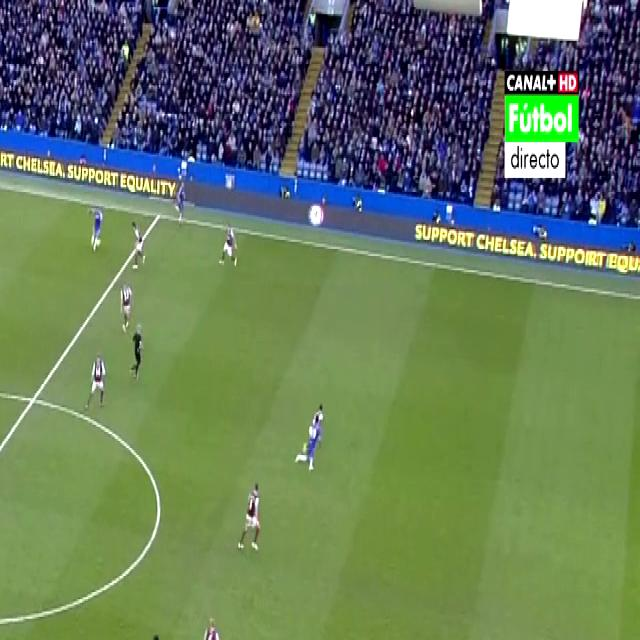referee: (132, 320, 150, 385)
soccer-player: (298, 394, 333, 476), (237, 477, 269, 562), (85, 346, 107, 412), (127, 216, 150, 277), (119, 274, 138, 336), (218, 214, 238, 269), (88, 196, 105, 258), (191, 610, 225, 640), (176, 175, 192, 226), (132, 629, 162, 640)
